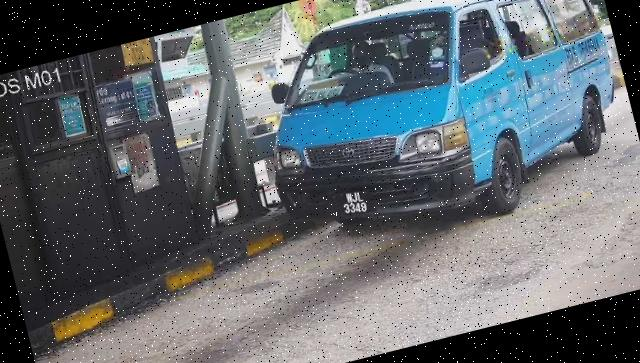License_Plate: (337, 186, 376, 223)
van: (242, 1, 640, 266)
